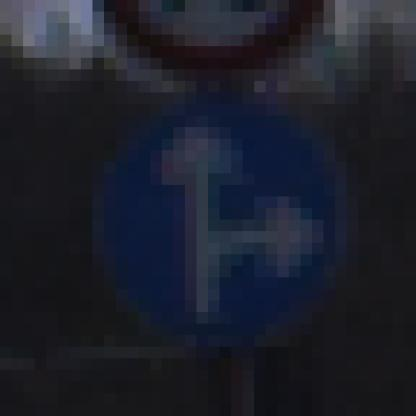Straight or Right: (71, 71, 360, 360)
